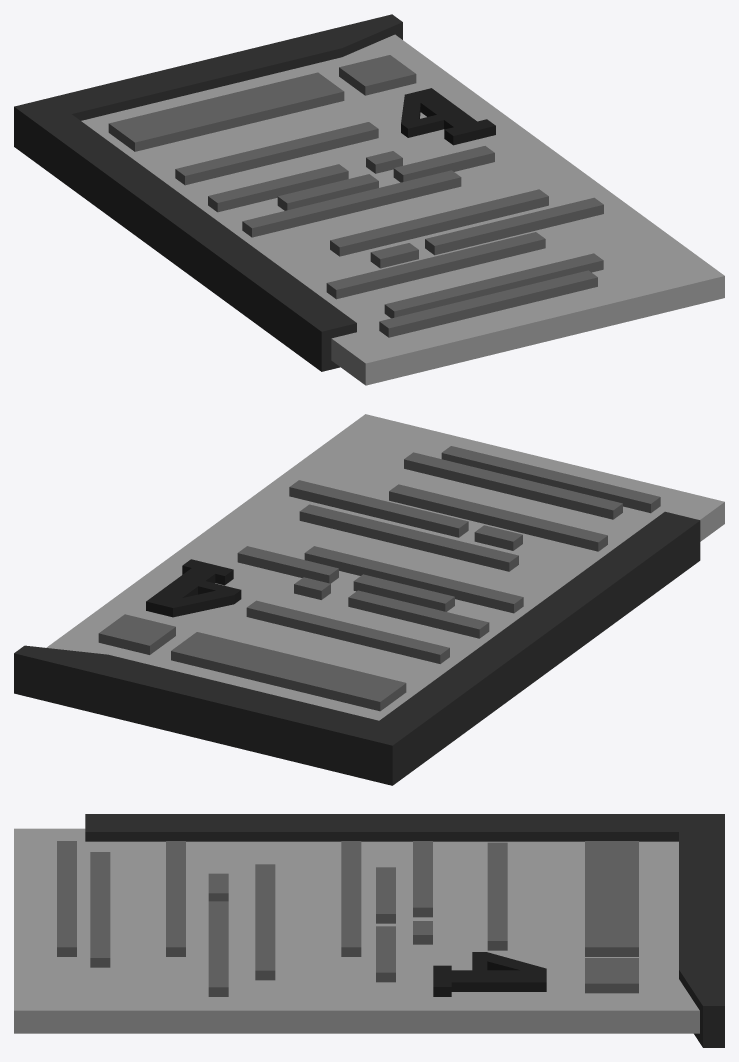
Rendered from dossier_4.FBX.
The picture shows the model from 3 angles, top to bottom: view 1: azimuth 30°, elevation 25°; view 2: azimuth 150°, elevation 25°; view 3: azimuth 270°, elevation 25°; orthographic projection. The views are drawn at different scales.
Parts seen in each view (by area): view 1: dossier_4; view 2: dossier_4; view 3: dossier_4.
Boxes of the visible parts, x1=… form: dossier_4: x1=14, y1=14, x2=724, y2=385; dossier_4: x1=14, y1=414, x2=724, y2=785; dossier_4: x1=14, y1=814, x2=724, y2=1047.
Size of the model in its own units: 18.59 by 1.9 by 29.11.
